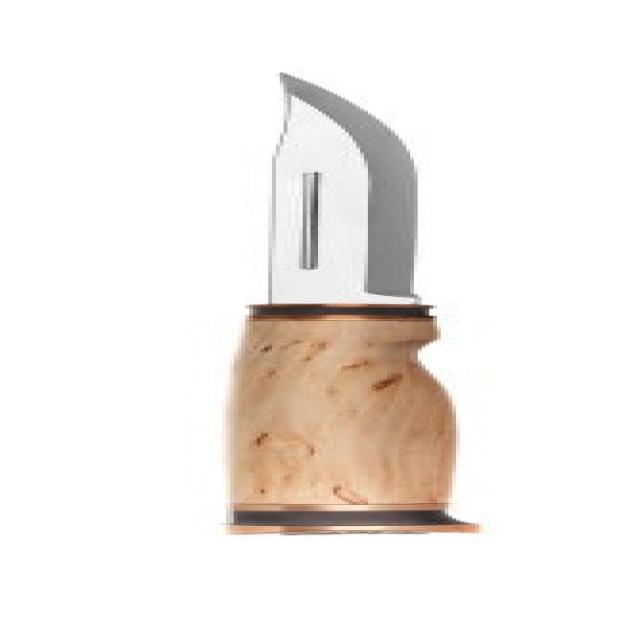knife: (207, 67, 548, 553)
